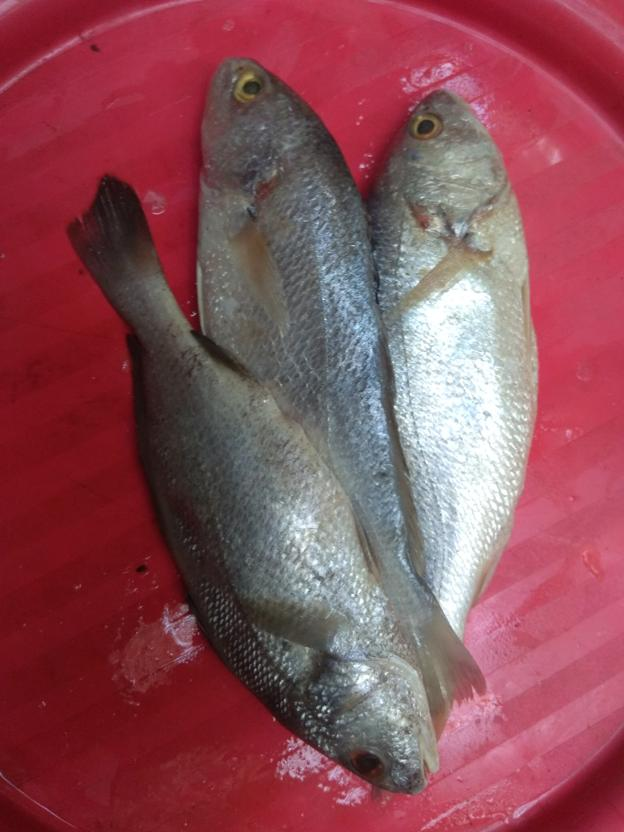Fish head: (372, 87, 521, 240), (287, 649, 441, 796), (197, 55, 327, 194)
Fish tail: (386, 591, 488, 741), (63, 173, 174, 301)
